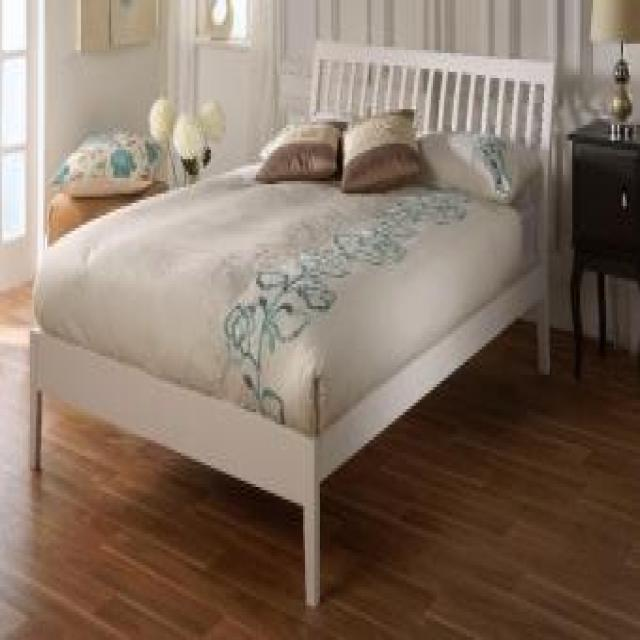bed: (29, 38, 554, 611)
